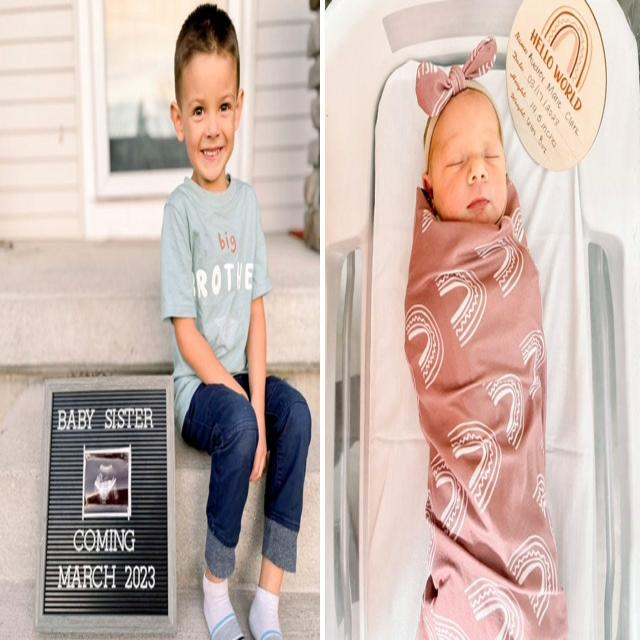child: (162, 1, 312, 640), (402, 57, 558, 640)
